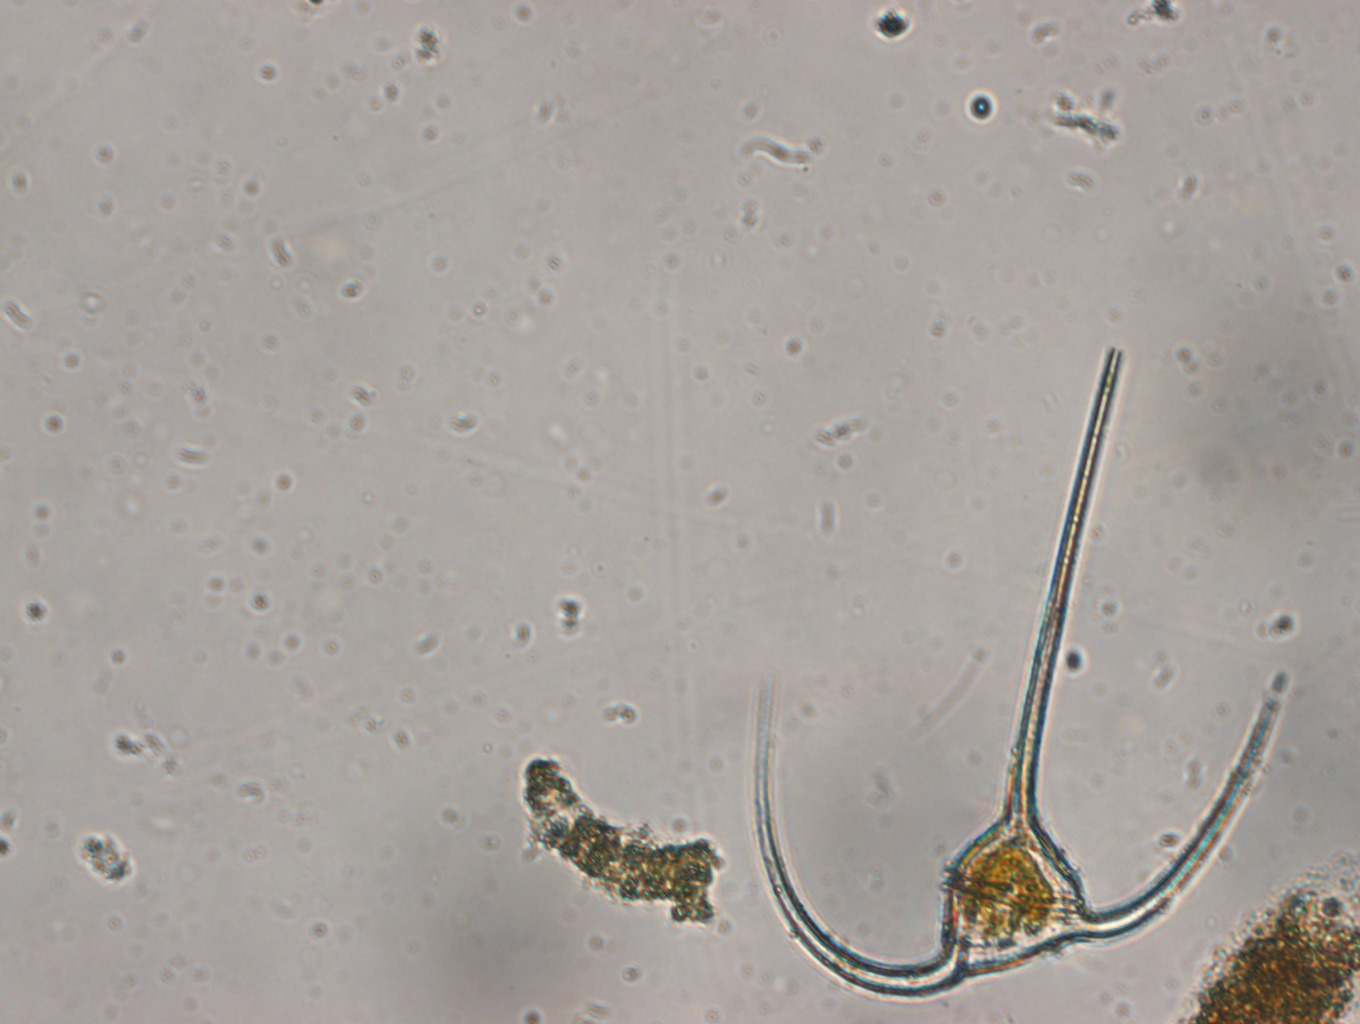ceratium trichoceros: (749, 346, 1283, 1005)
